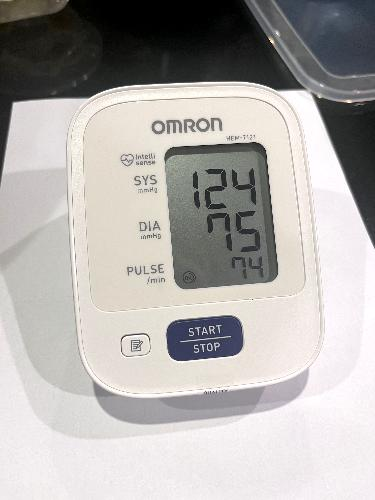bpm: (160, 134, 282, 291)
